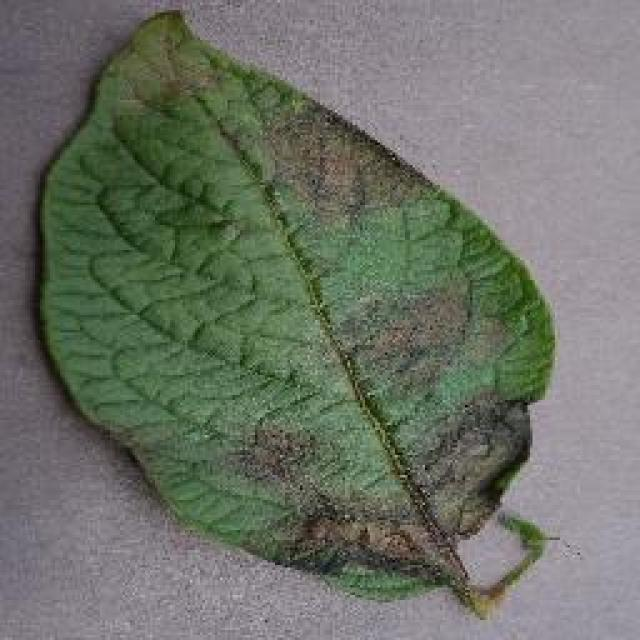late_blight: (30, 5, 560, 615)
